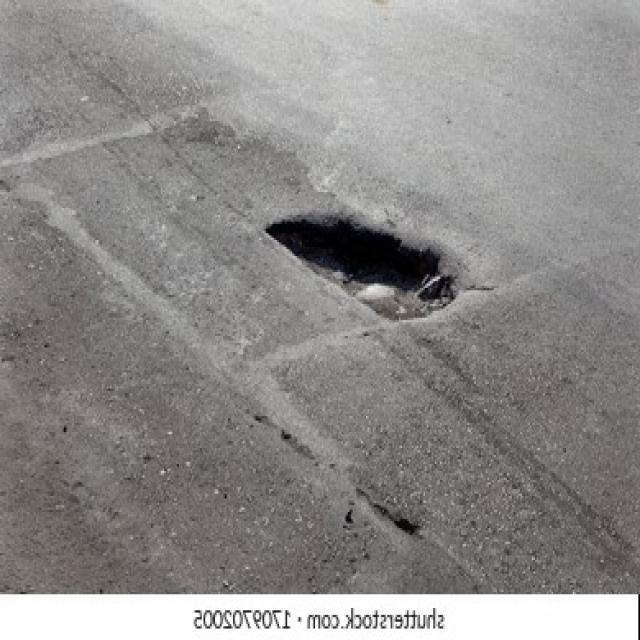pothole: (264, 213, 458, 332)
